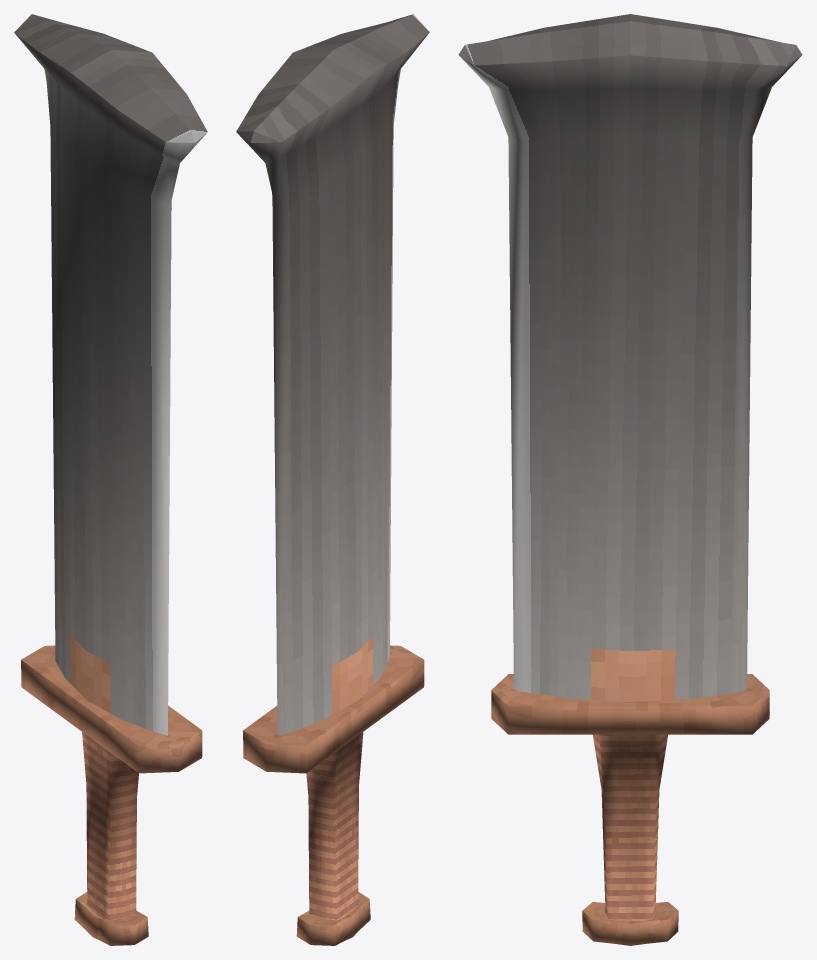
Rendered from SwordObject_3d_003.fbx.
3 renders of one model, left to right at view 1: azimuth 30°, elevation 25°; view 2: azimuth 150°, elevation 25°; view 3: azimuth 270°, elevation 25°, orthographic. The views are drawn at different scales.
Visible parts, largest first — view 1: Cube; view 2: Cube; view 3: Cube.
Boxes of the visible parts, <box> form: Cube: <box>14,14,207,945</box>; Cube: <box>236,14,429,945</box>; Cube: <box>458,14,802,945</box>.
Size of the model in its own units: 0.1985 by 2.05 by 0.6982.
